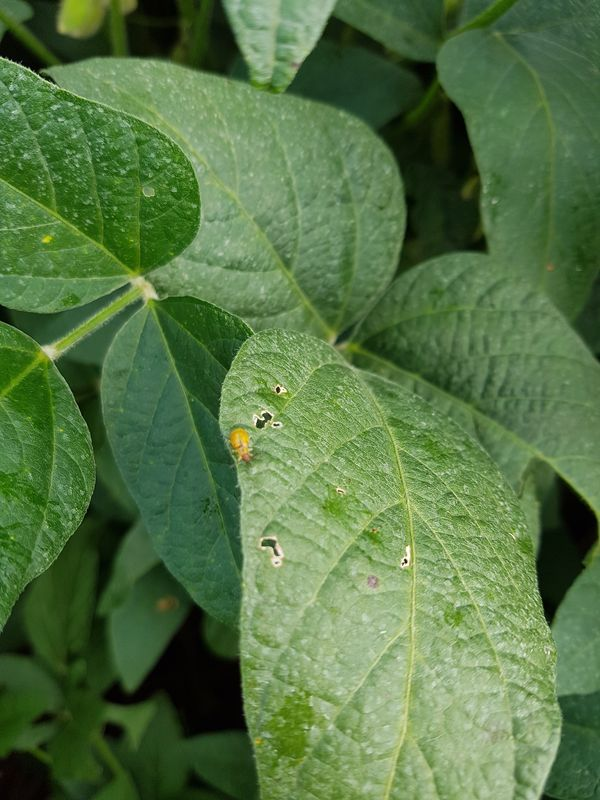Diabrotica_speciosa: (217, 423, 263, 473)
